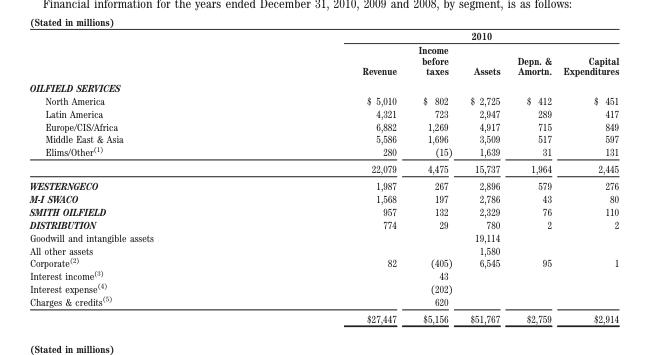table: (29, 29, 618, 324)
table column: (29, 29, 257, 324), (257, 29, 406, 324), (556, 29, 618, 324), (406, 29, 460, 324), (460, 29, 508, 324), (508, 29, 556, 324)
table column header: (29, 29, 618, 78)
table projected row header: (29, 78, 618, 93)
table row: (29, 42, 618, 78), (29, 144, 618, 160), (29, 160, 618, 176), (29, 294, 618, 310), (29, 78, 618, 93), (29, 176, 618, 191), (29, 310, 618, 324), (29, 29, 618, 42), (29, 93, 618, 106), (29, 106, 618, 119), (29, 119, 618, 132), (29, 191, 618, 204), (29, 204, 618, 217), (29, 217, 618, 230), (29, 230, 618, 243), (29, 255, 618, 268), (29, 268, 618, 281), (29, 281, 618, 294), (29, 132, 618, 144), (29, 243, 618, 255)
table spanning cell: (257, 29, 618, 42)
